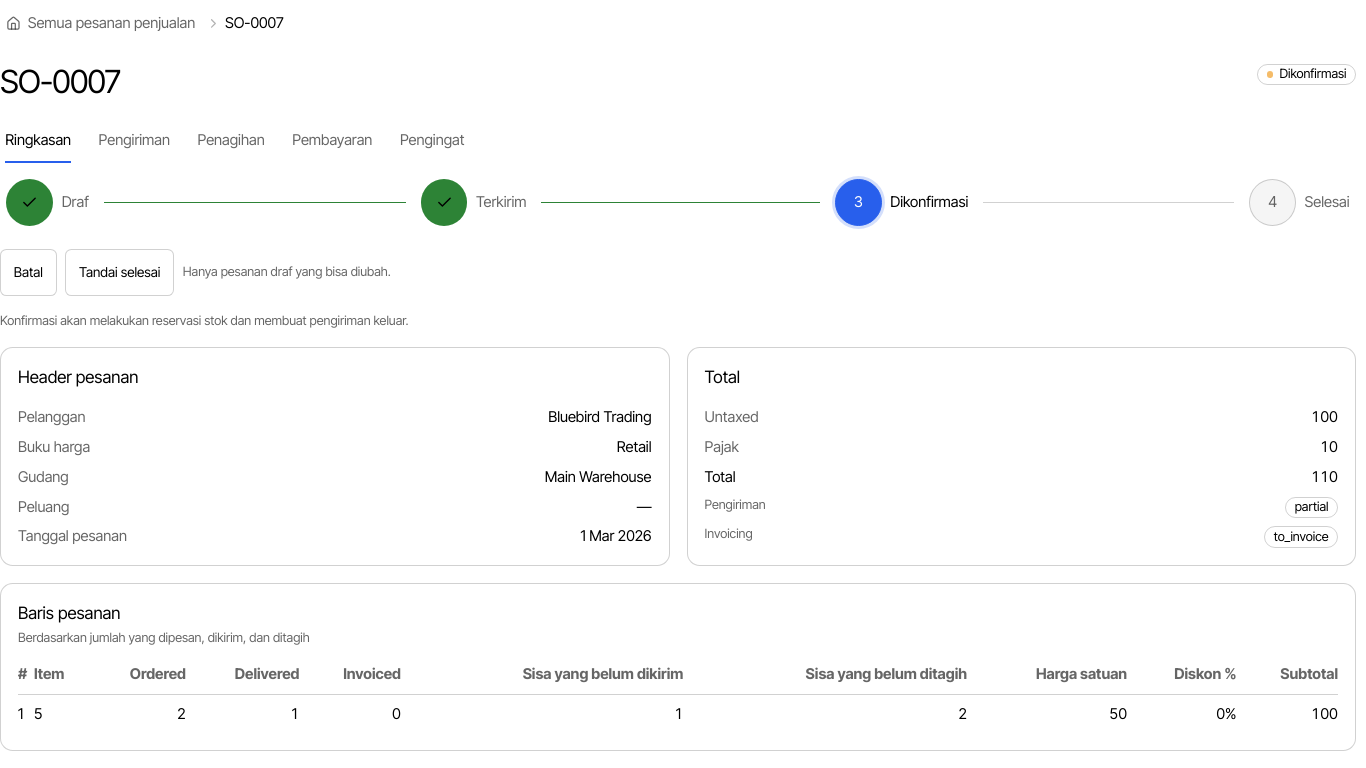
SaleOrderDetail branches4 › cancels the invoice dialog
The image size is (1366, 768).
Click the tab "Penagihan": (231, 141) x1=196 y1=117 x2=266 y2=164
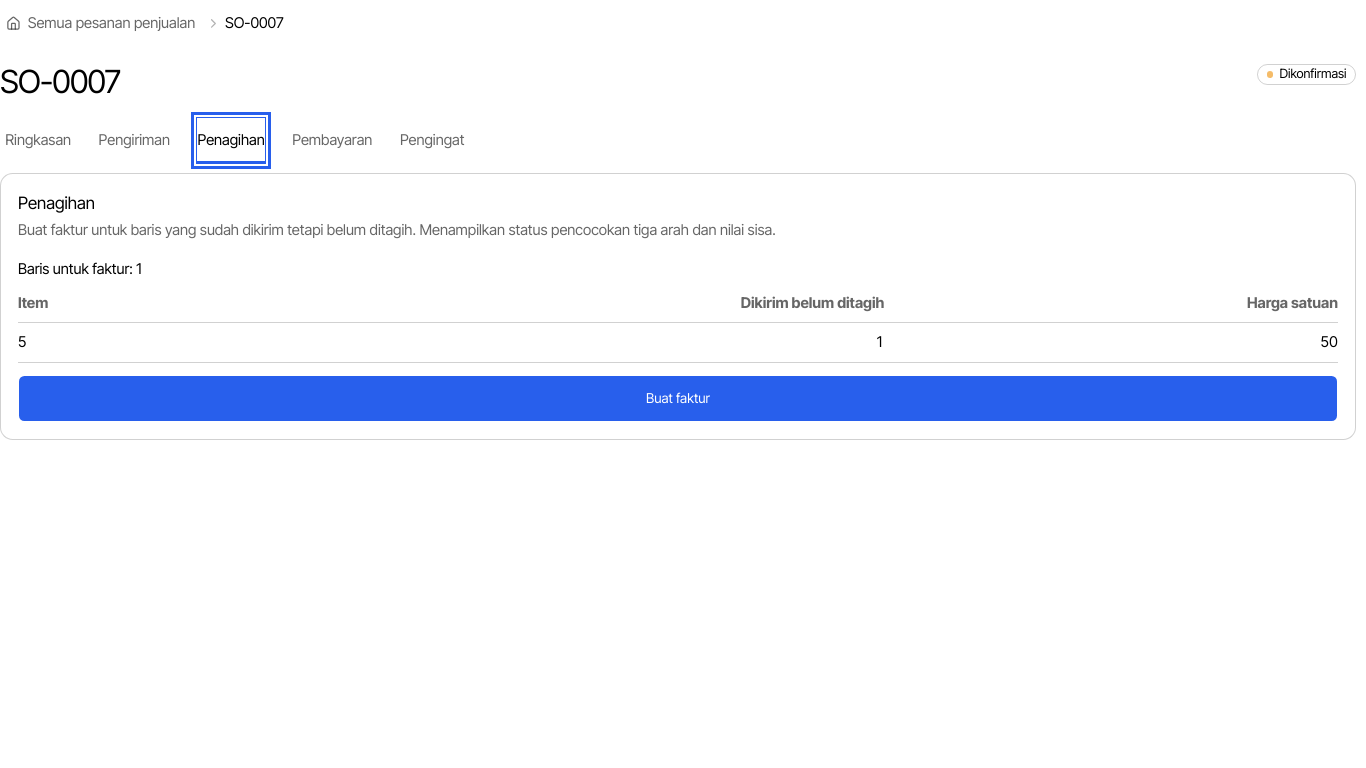
Click the button "Buat faktur": (678, 399) x1=18 y1=375 x2=1338 y2=422
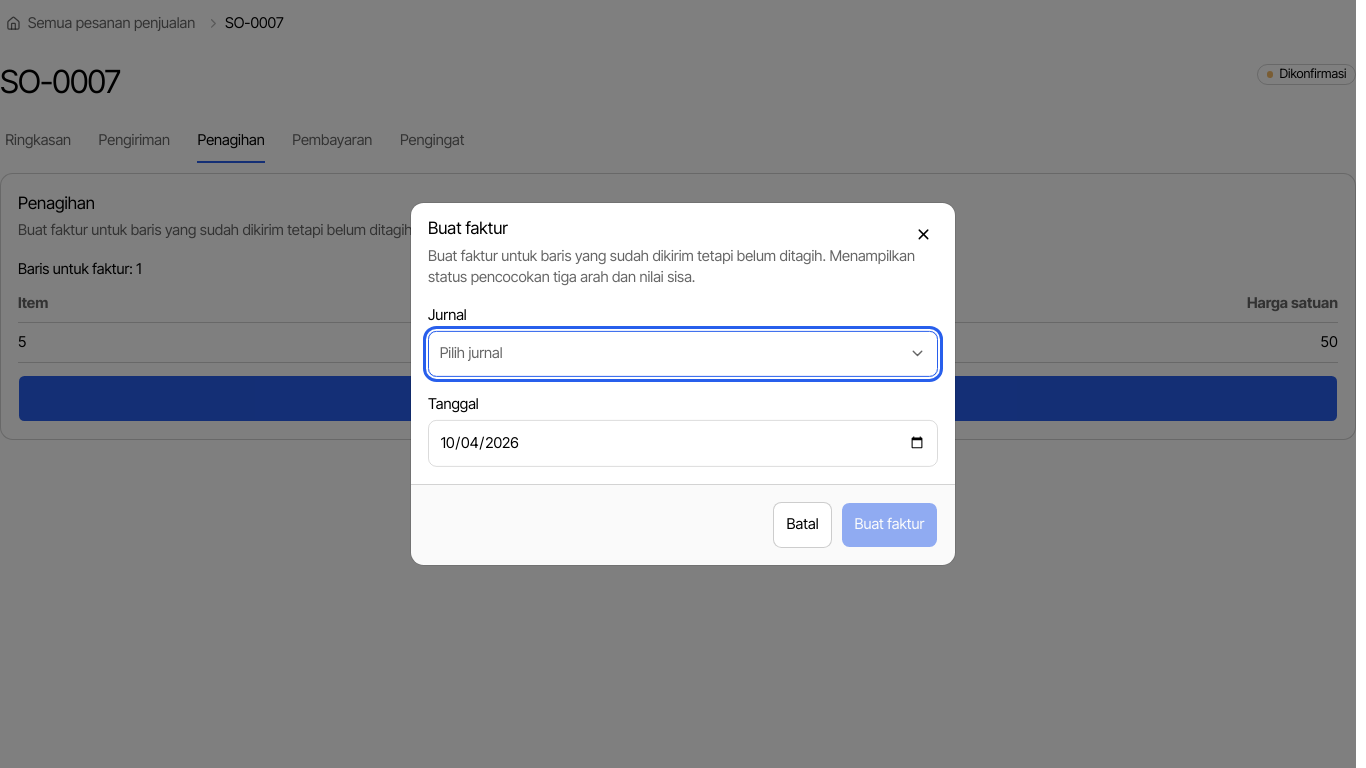
Click the button "Batal": (802, 525) x1=773 y1=501 x2=832 y2=548
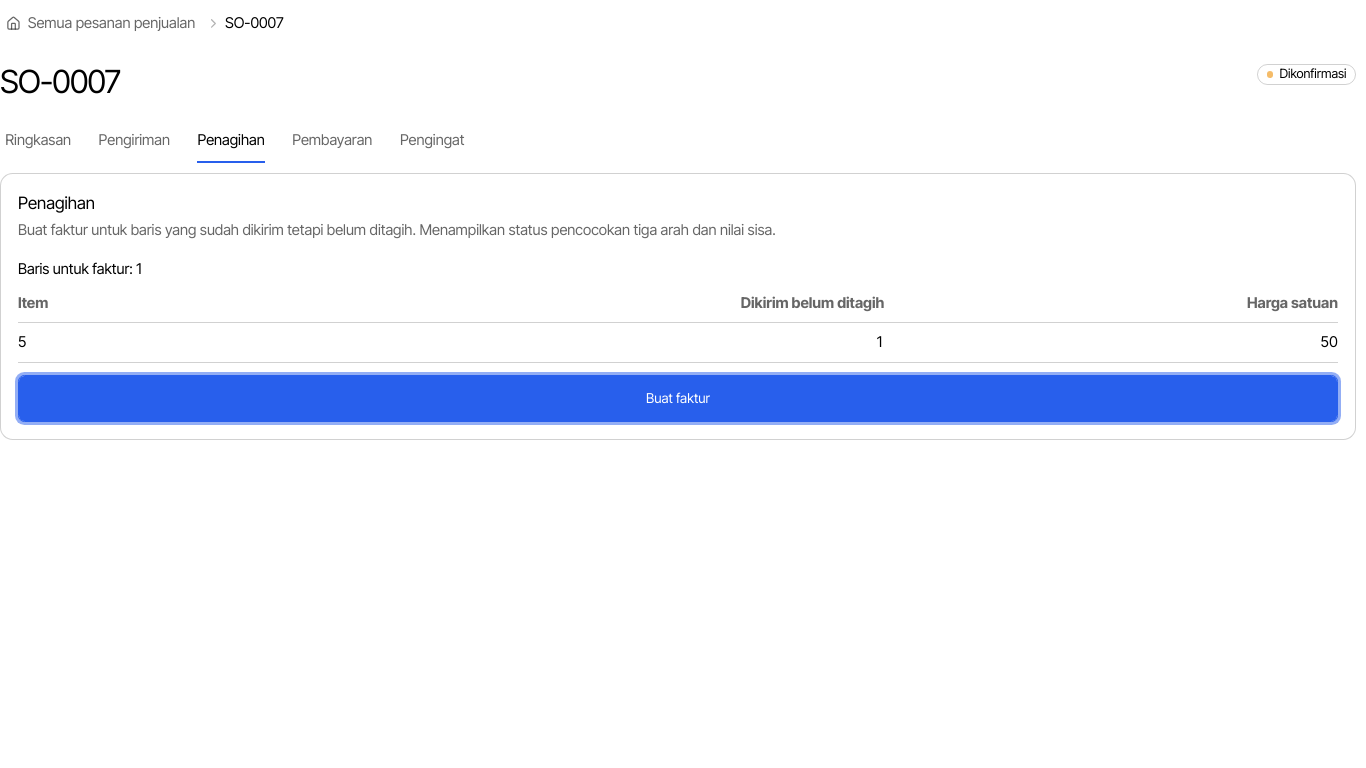
Check: the dialog is gone
